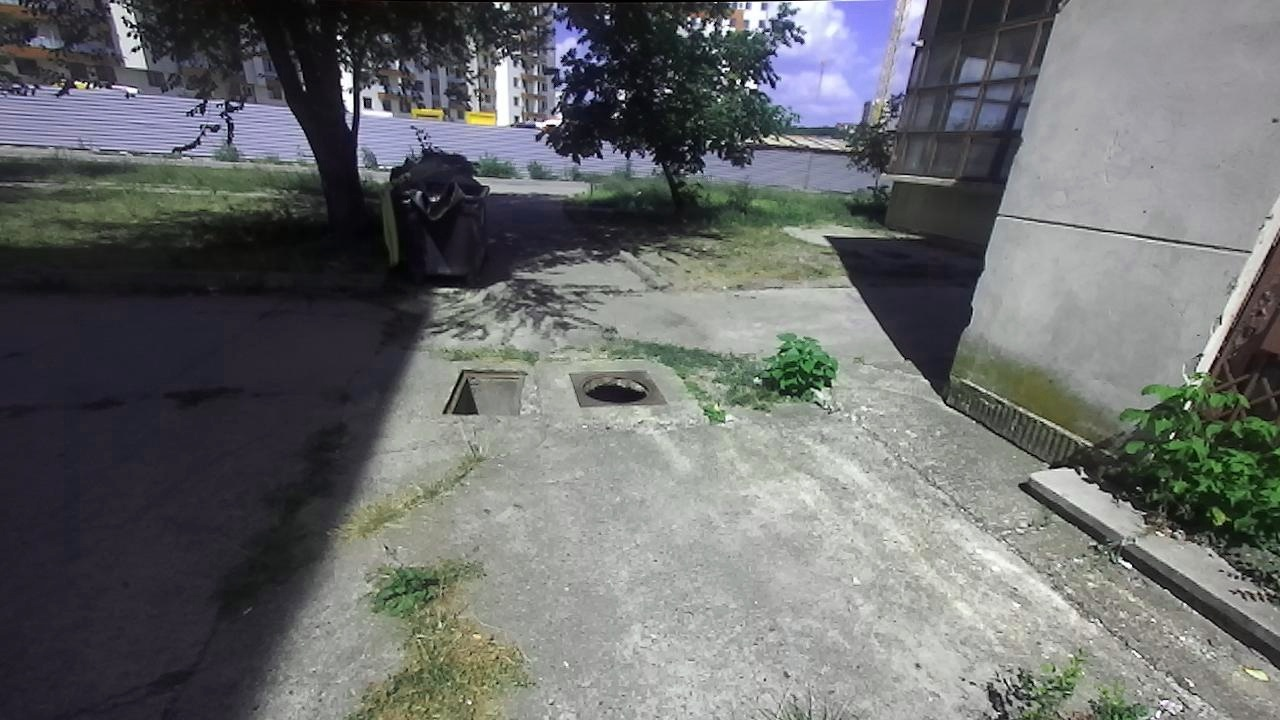drain: (438, 365, 529, 414), (578, 371, 654, 403)
